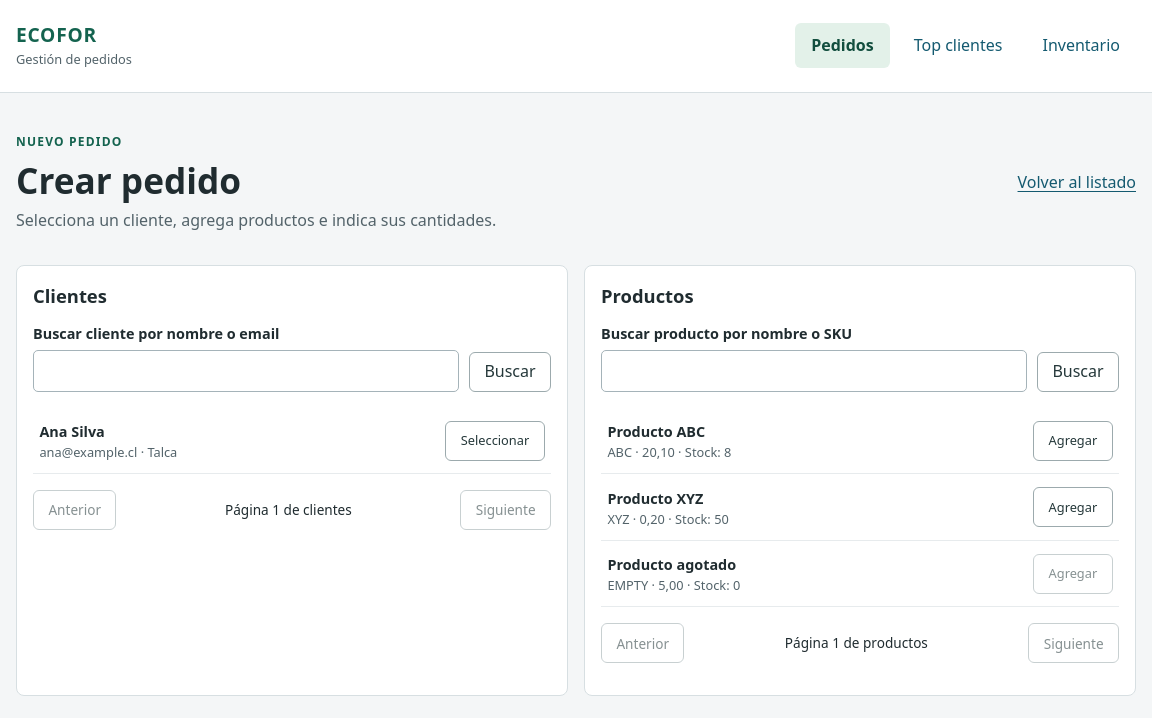
Scenario: Creación › presenta el error 400 de la API y conserva la composición para corregirla
The image size is (1152, 718).
Click the button named "Seleccionar Ana Silva" at (495,440), box [445,420,545,460]
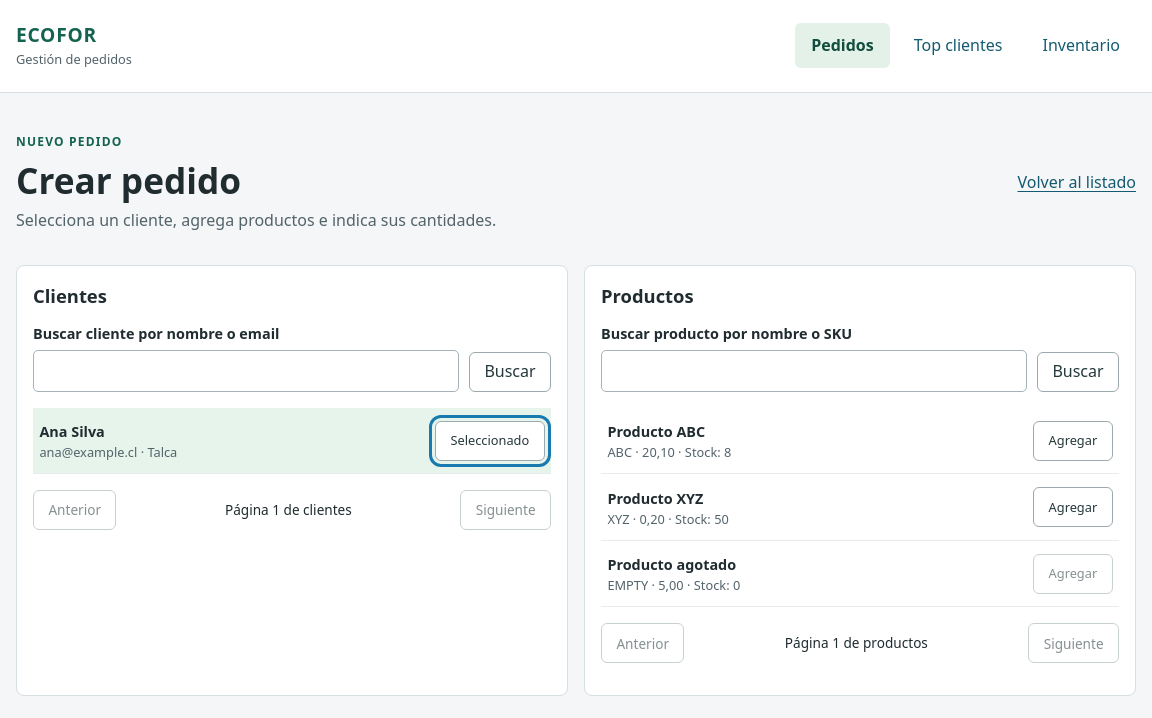
Click the button named "Agregar Producto ABC" at (1073,440), box [1033,420,1113,460]
(page scrolled)
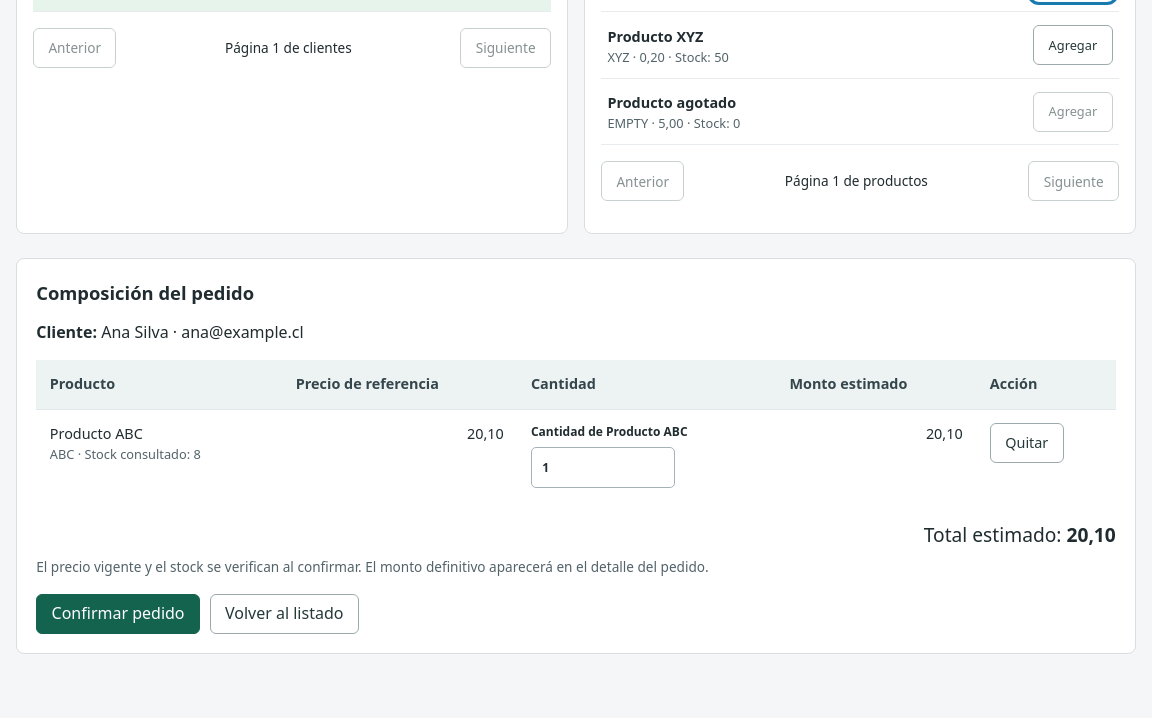
Click the button "Confirmar pedido" at (118,614), box [36,594,200,634]
(page scrolled)
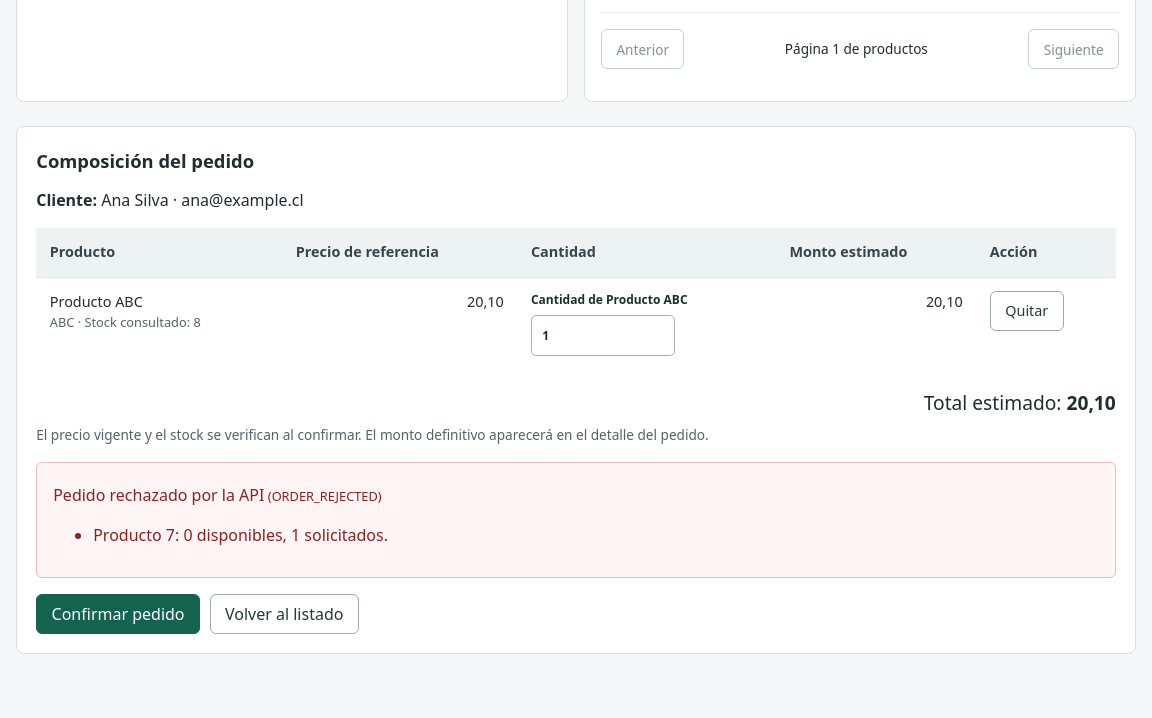
Check: the number field labelled "Cantidad de Producto ABC" holds "1", box [531,315,675,356]
Check: the message shows "Pedido rechazado por la API", box [53,484,264,506]
Check: the message shows "Producto 7: 0 disponibles, 1 solicitados.", box [93,524,388,546]
